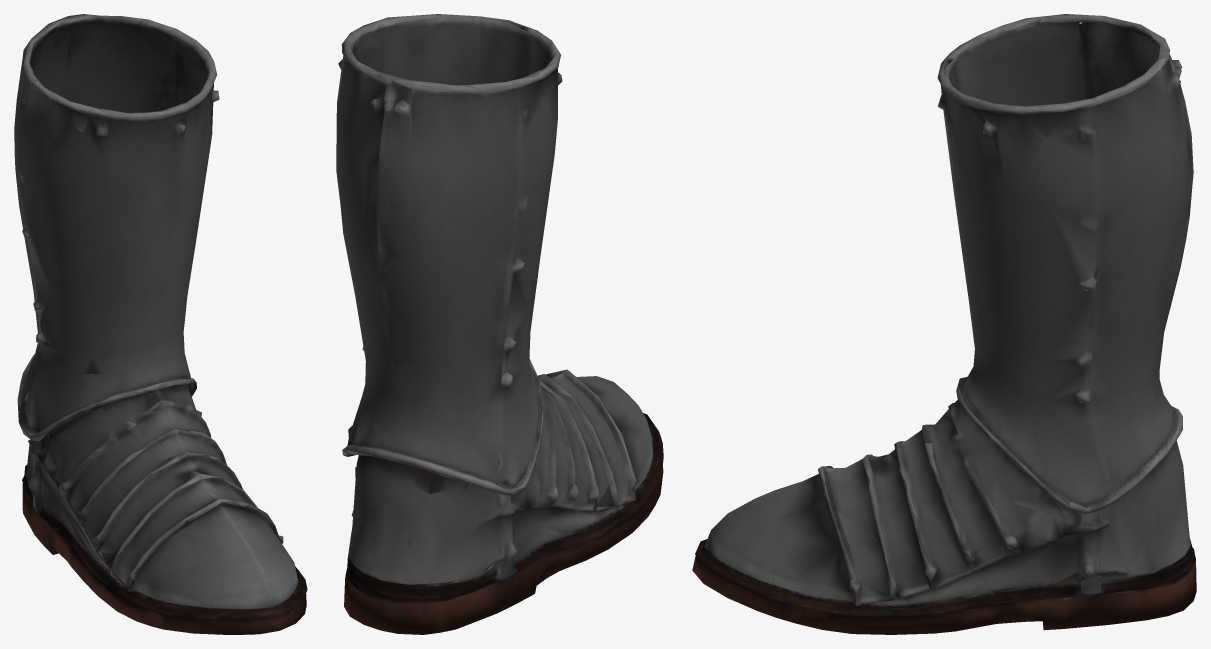
File: sabaton-v1-prepped.glb
The picture shows the model from 3 angles, left to right: view 1: azimuth 30°, elevation 25°; view 2: azimuth 150°, elevation 25°; view 3: azimuth 270°, elevation 25°; orthographic projection. The views are drawn at different scales.
Parts seen in each view (by area): view 1: sabaton; view 2: sabaton; view 3: sabaton.
Part boxes in pixels (bbox=[...]): sabaton: bbox=[14, 14, 307, 634]; sabaton: bbox=[336, 14, 663, 634]; sabaton: bbox=[692, 14, 1196, 634].
Bounding box in the file's own units: 0.3681 × 1 × 0.8426.
1 material, 1 textured.
